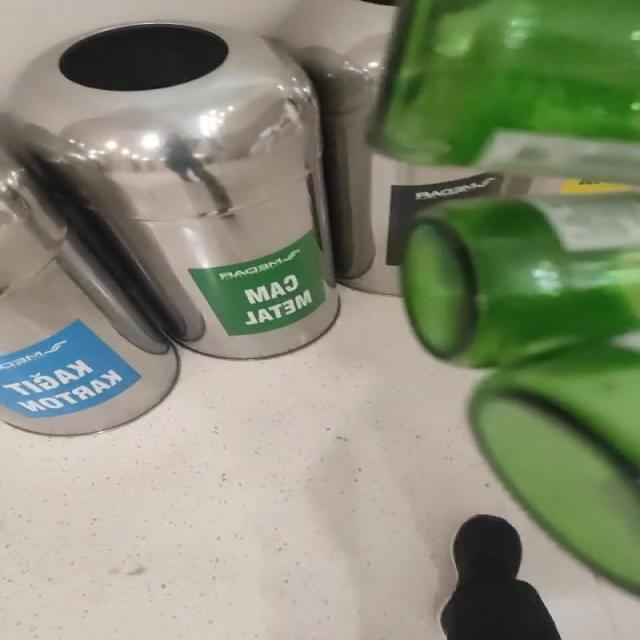Glass: (403, 192, 639, 592), (372, 0, 640, 186)
